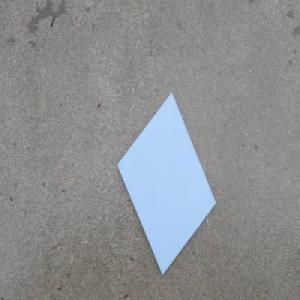PaintChip: (116, 88, 218, 276)
